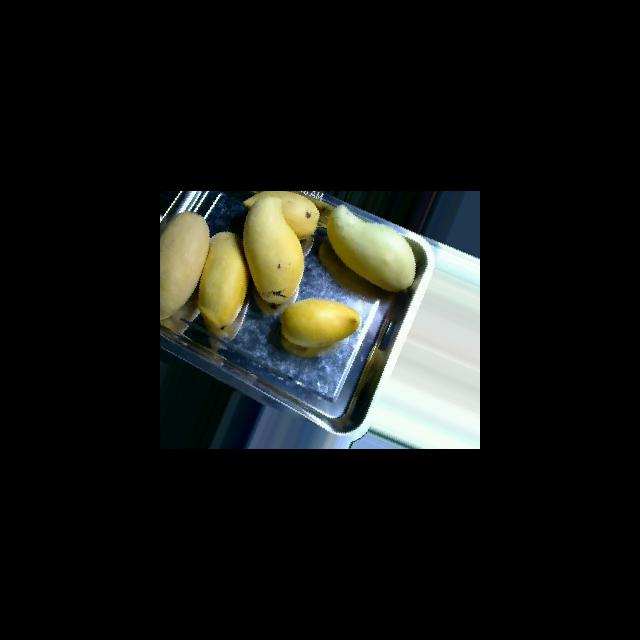Mango: (324, 211, 415, 289), (245, 195, 302, 295), (160, 211, 208, 322), (193, 232, 247, 329), (278, 303, 357, 341)
